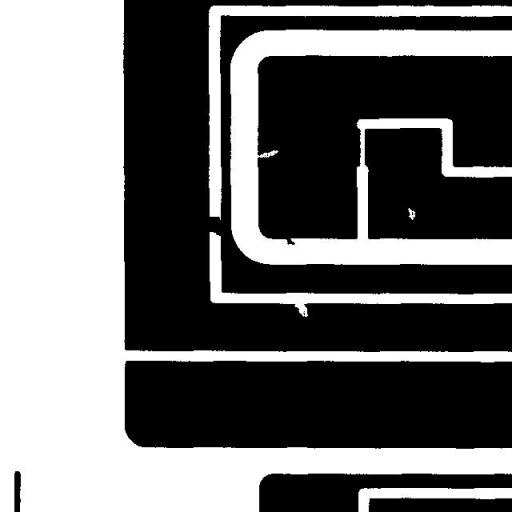mousebite: (286, 294, 316, 324), (248, 142, 286, 165)
pin-hole: (400, 200, 422, 227)
short: (196, 209, 234, 243)
spur: (277, 224, 302, 252)
